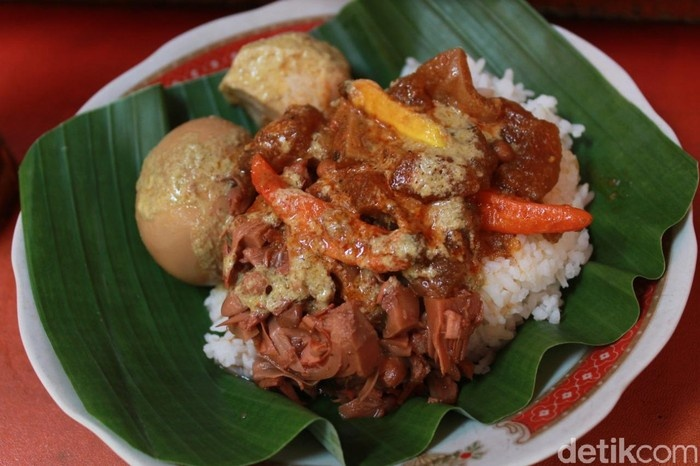gudeg: (138, 42, 581, 416)
